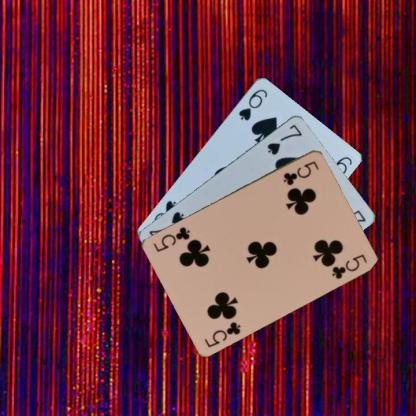5c: (202, 318, 242, 348), (280, 158, 320, 186)
6s: (235, 85, 268, 122)
7s: (265, 121, 303, 156)
